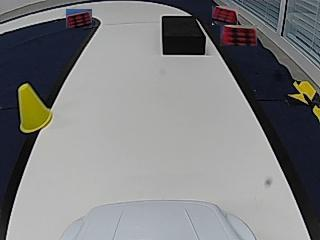block: (162, 16, 205, 54)
cone: (18, 84, 53, 133)
